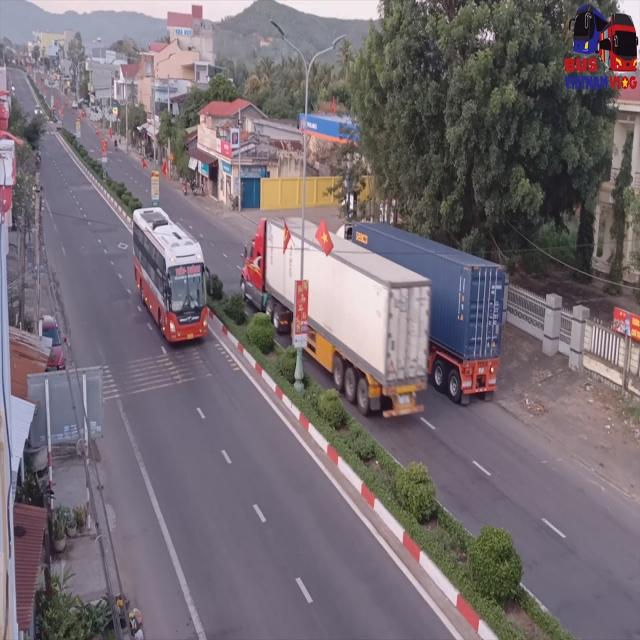bus: (133, 209, 212, 349)
truck: (241, 220, 431, 413)
